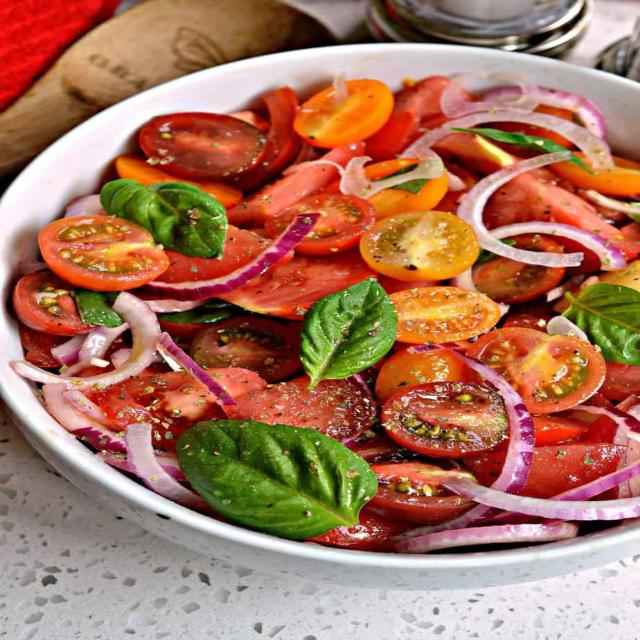Tomato: (380, 381, 524, 462), (32, 210, 166, 288), (269, 195, 370, 256)
